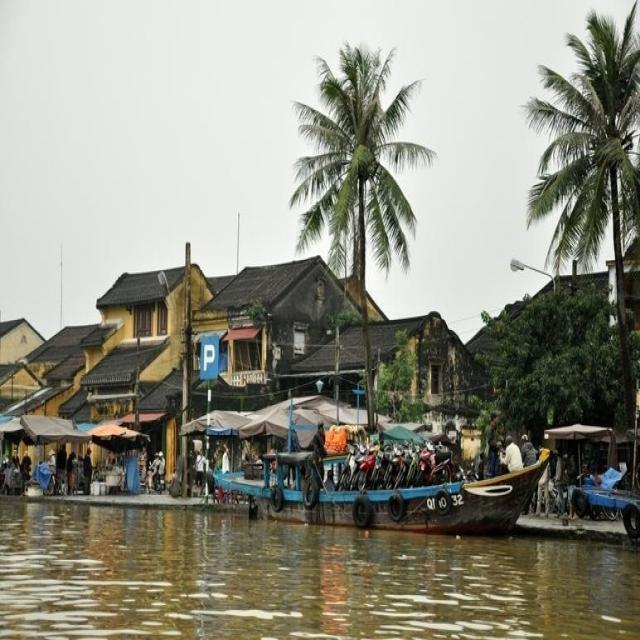boat: (211, 454, 551, 536)
